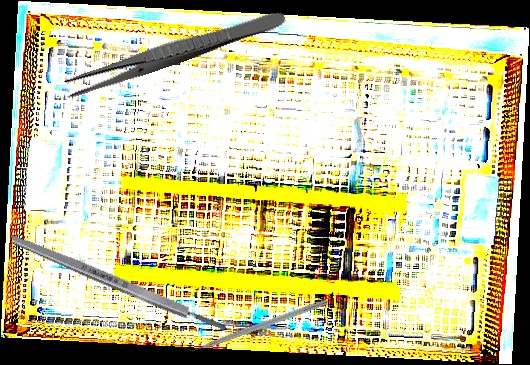Chopper: (178, 290, 329, 358)
Dressing Forceps: (61, 4, 288, 101)
Scalpel Handle: (9, 231, 229, 336)
